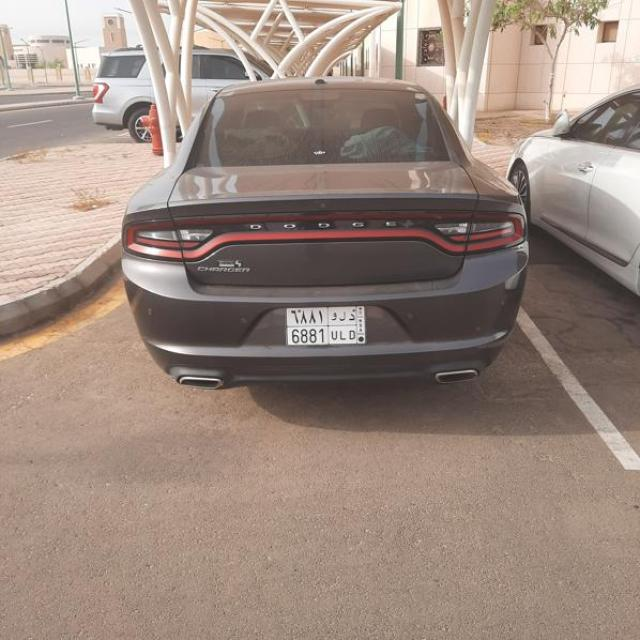license_plate: (286, 308, 365, 344)
